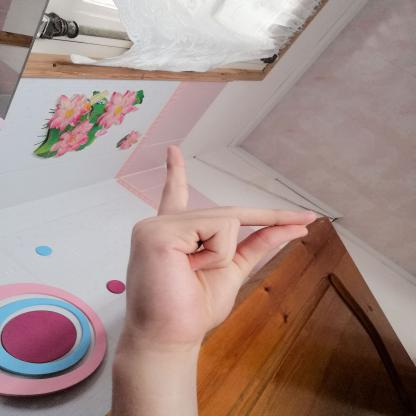TAA: (109, 135, 329, 355)
